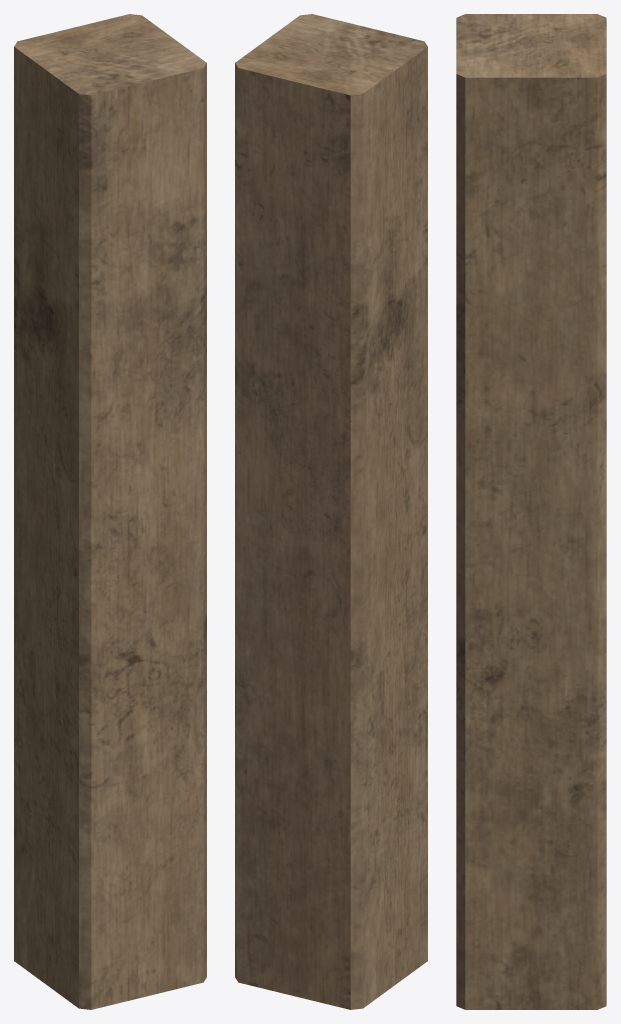
The model's file is Pillar_L.fbx.
The picture shows the model from 3 angles, left to right: view 1: azimuth 30°, elevation 25°; view 2: azimuth 150°, elevation 25°; view 3: azimuth 270°, elevation 25°; orthographic projection.
Visible parts, largest first — view 1: Cube.006; view 2: Cube.006; view 3: Cube.006.
Boxes of the visible parts, x1,y1,x2,y2 form: Cube.006: (14, 14, 206, 1009); Cube.006: (235, 14, 427, 1009); Cube.006: (456, 14, 606, 1009).
Bounding box in the file's own units: 29.28 × 200 × 29.28.
